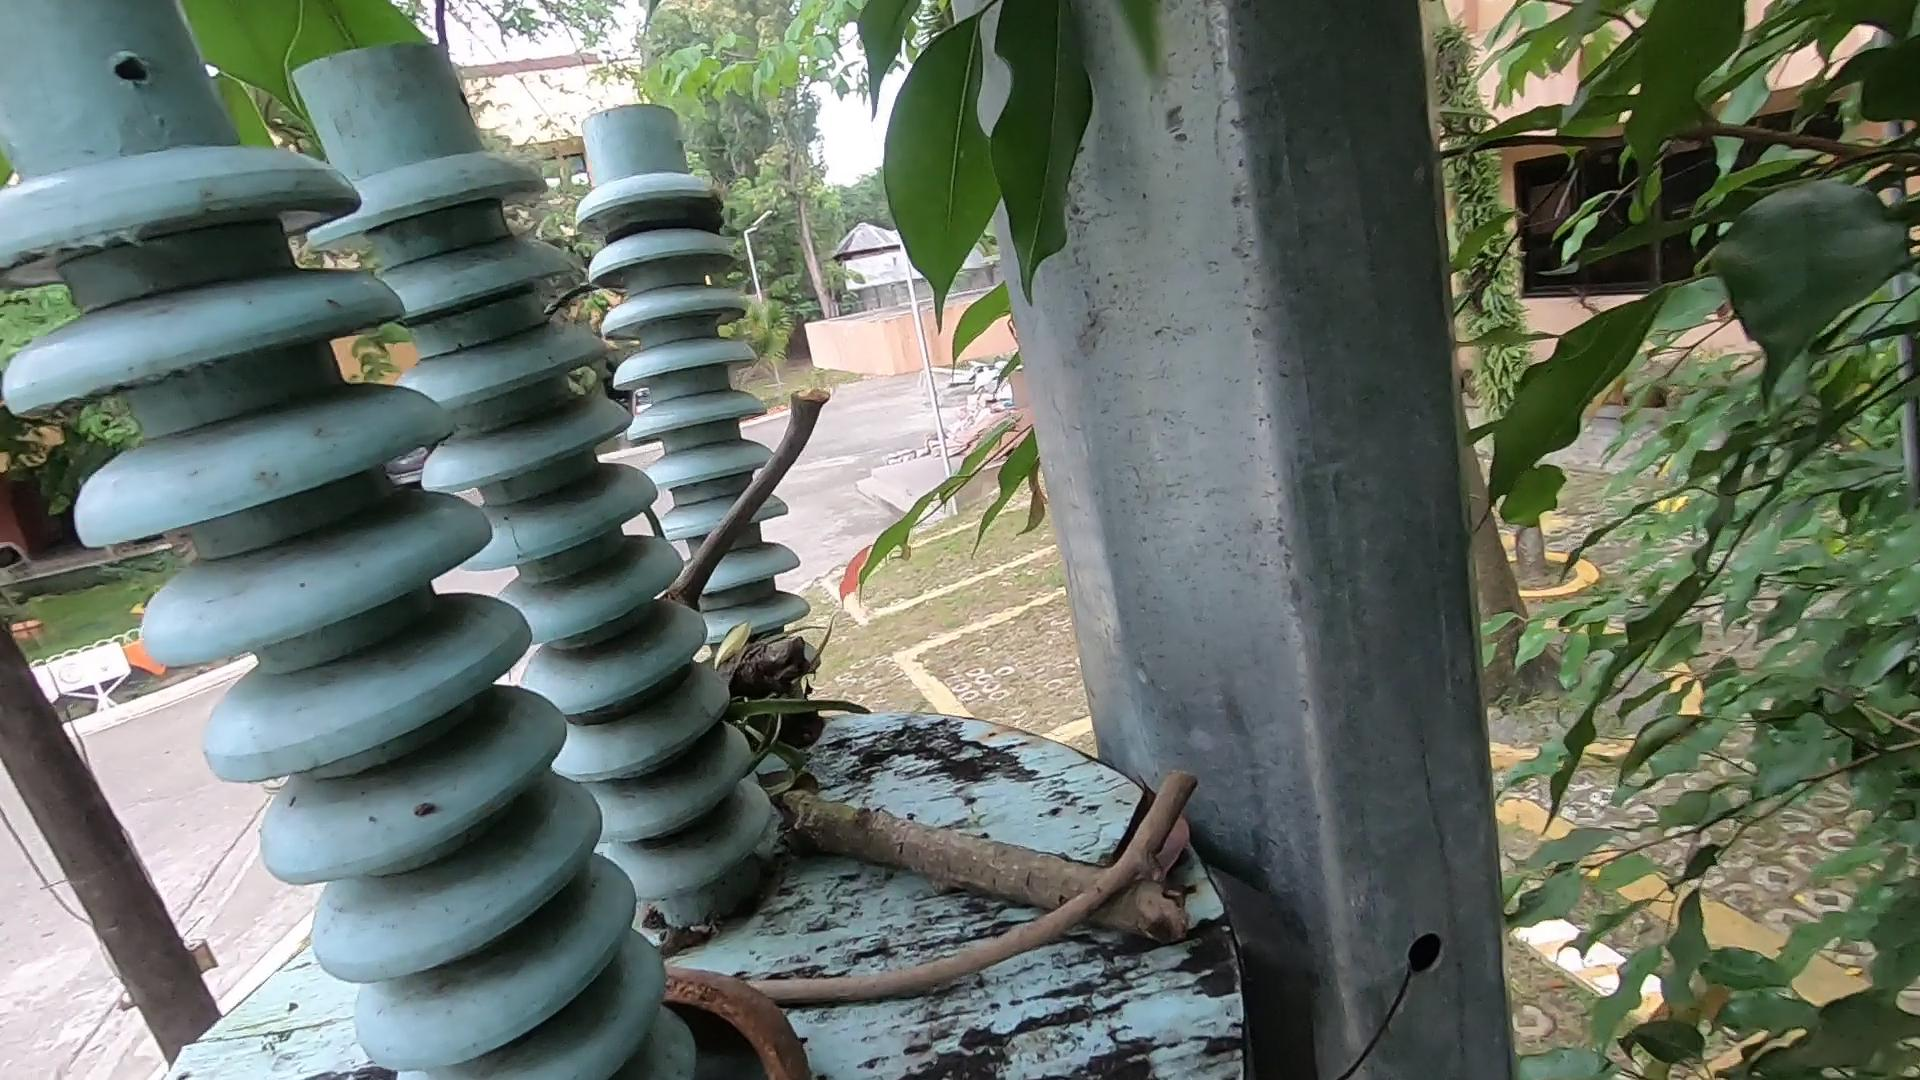branch with leaves: (622, 501, 1208, 932)
mahogany fruit: (589, 940, 814, 1080)
tree branch: (713, 844, 1212, 1042), (674, 328, 812, 699)
